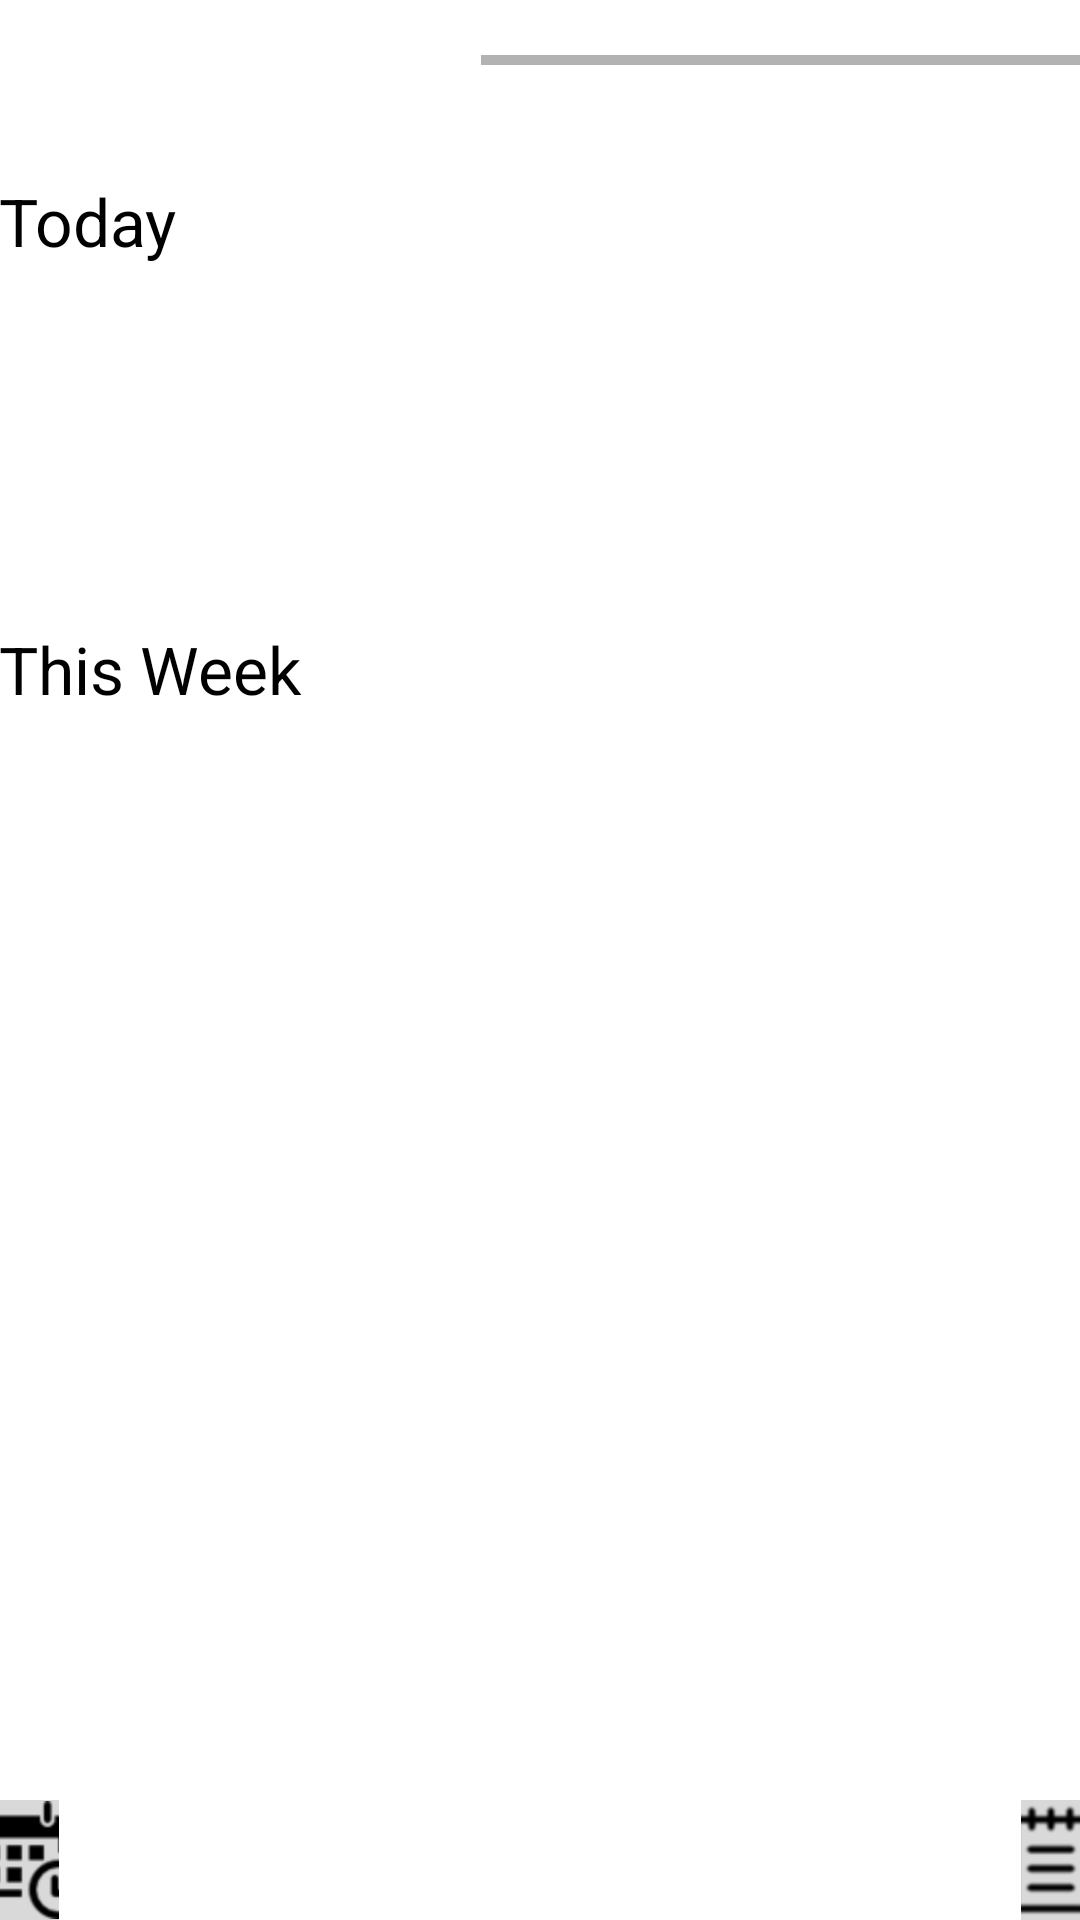

Named icons in this screenshot (1080px×1920px) and their bounding boxes, (x1, y1, x2, y2):
calender: (0, 1800, 59, 1920)
list: (1021, 1800, 1080, 1920)
